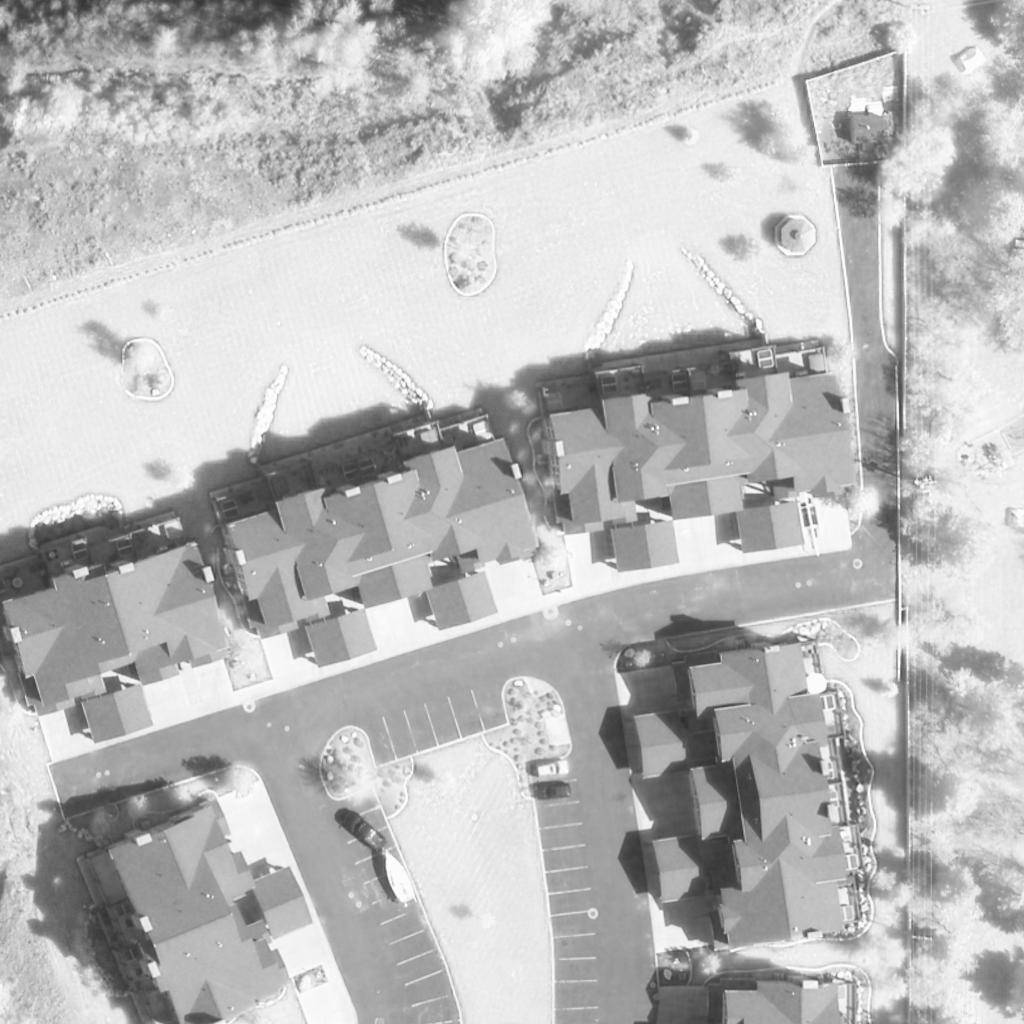vehicle: (377, 844, 419, 906), (337, 810, 389, 854), (533, 761, 571, 777), (530, 785, 572, 799)
